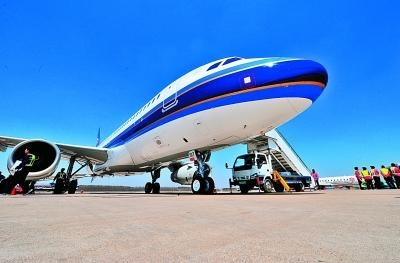airplane: (5, 54, 337, 188)
person: (6, 147, 36, 195)
